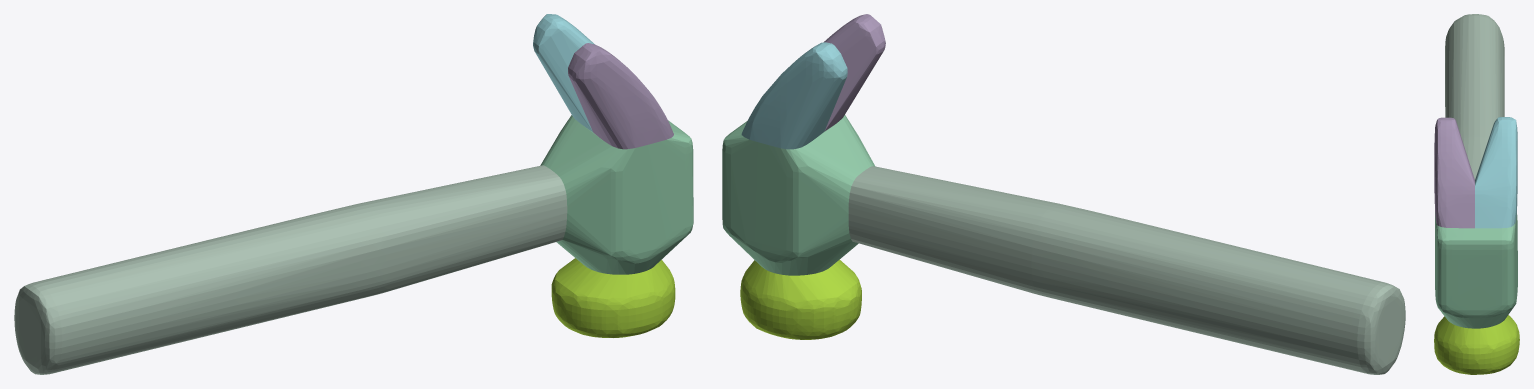
File: claw_hammer-collision.glb
3 views of the same model, side by side, from view 1: azimuth 30°, elevation 25°; view 2: azimuth 150°, elevation 25°; view 3: azimuth 270°, elevation 25° (orthographic). The views are drawn at different scales.
Visible parts, largest first — view 1: claw_hammer_collision0_0, claw_hammer_collision3_0, claw_hammer_collision4_0, claw_hammer_collision1_0, claw_hammer_collision2_0; view 2: claw_hammer_collision0_0, claw_hammer_collision3_0, claw_hammer_collision4_0, claw_hammer_collision2_0, claw_hammer_collision1_0; view 3: claw_hammer_collision3_0, claw_hammer_collision0_0, claw_hammer_collision2_0, claw_hammer_collision4_0, claw_hammer_collision1_0.
Boxes of the visible parts, <box> form: claw_hammer_collision0_0: <box>14,165,567,374</box>; claw_hammer_collision3_0: <box>540,115,693,274</box>; claw_hammer_collision4_0: <box>551,258,675,337</box>; claw_hammer_collision1_0: <box>568,43,673,149</box>; claw_hammer_collision2_0: <box>533,14,594,132</box>; claw_hammer_collision0_0: <box>848,166,1405,374</box>; claw_hammer_collision3_0: <box>722,115,875,275</box>; claw_hammer_collision4_0: <box>740,259,861,339</box>; claw_hammer_collision2_0: <box>741,42,847,149</box>; claw_hammer_collision1_0: <box>824,14,885,131</box>; claw_hammer_collision3_0: <box>1435,212,1517,328</box>; claw_hammer_collision0_0: <box>1445,14,1504,179</box>; claw_hammer_collision2_0: <box>1475,117,1517,228</box>; claw_hammer_collision4_0: <box>1434,315,1519,374</box>; claw_hammer_collision1_0: <box>1434,117,1474,228</box>.
Size of the model in its own units: 0.1971 by 0.0874 by 0.03.
